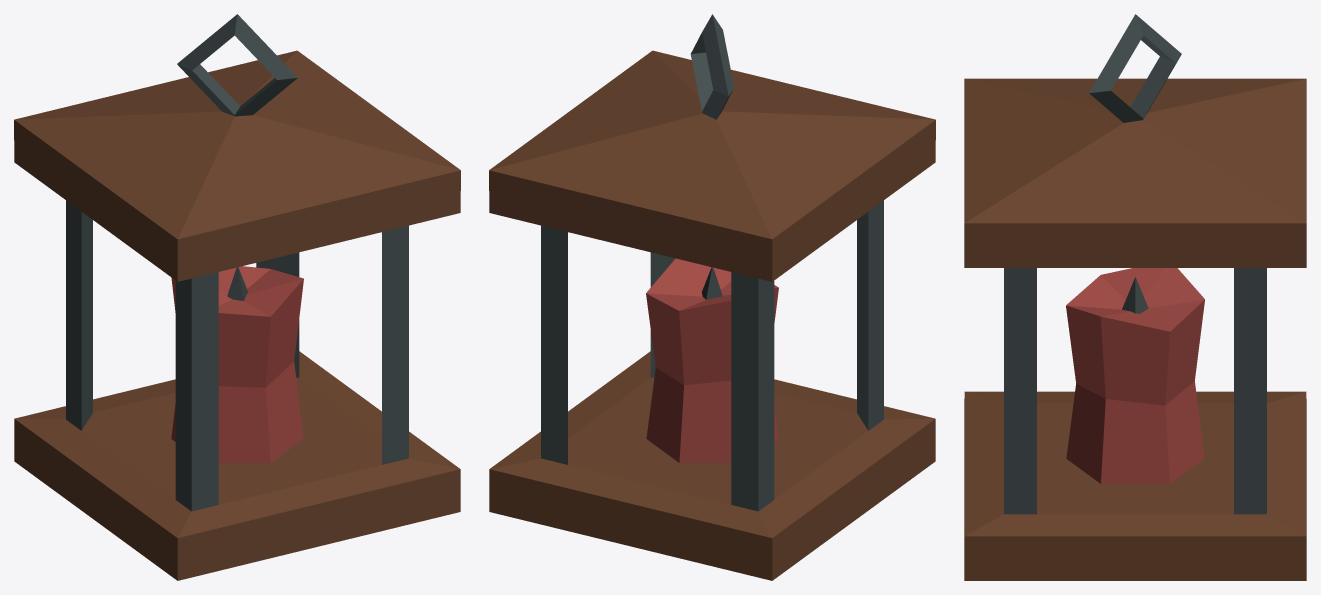
The model's file is Lamp_5_Red.fbx.
The picture shows the model from 3 angles, left to right: view 1: azimuth 30°, elevation 25°; view 2: azimuth 150°, elevation 25°; view 3: azimuth 270°, elevation 25°; orthographic projection. The views are drawn at different scales.
Visible parts, largest first — view 1: Lamp_5_Red; view 2: Lamp_5_Red; view 3: Lamp_5_Red.
Boxes of the visible parts, box(x1,y1,x2,y2) form: Lamp_5_Red: box(14, 14, 460, 580); Lamp_5_Red: box(489, 14, 935, 580); Lamp_5_Red: box(964, 14, 1306, 580).
Size of the model in its own units: 26.04 by 41.5 by 26.04.
